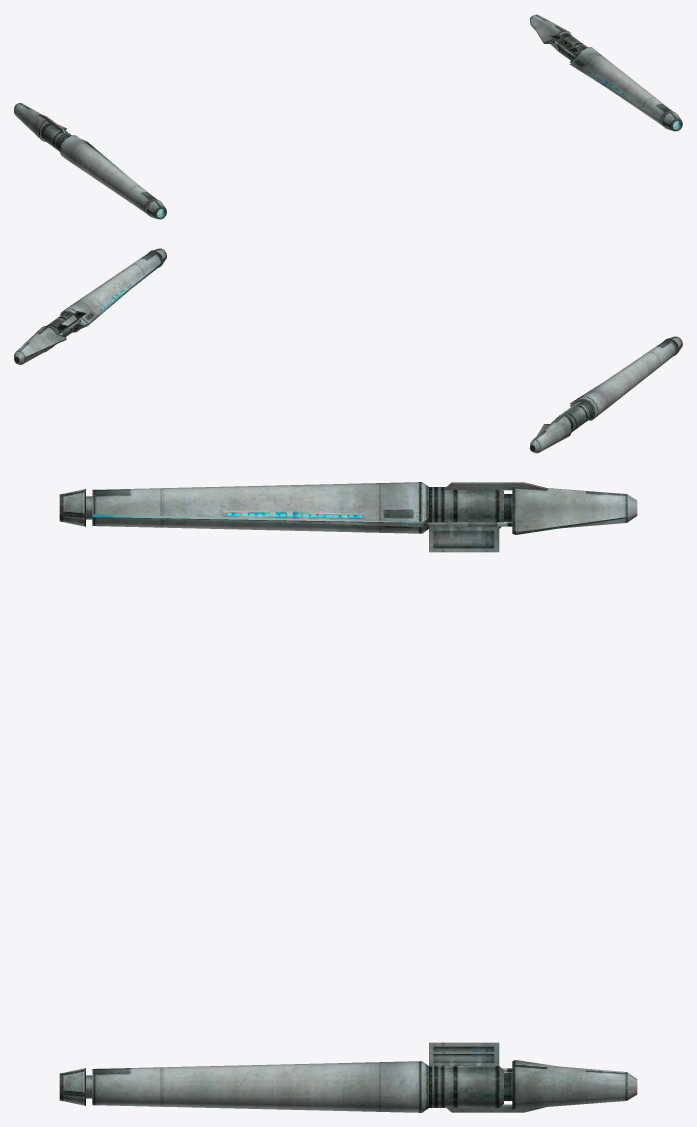
File: xwing_weapon1_pos_s02_l0.fbx
3 renders of one model, top to bottom at view 1: azimuth 30°, elevation 25°; view 2: azimuth 150°, elevation 25°; view 3: azimuth 270°, elevation 25°, orthographic. The views are drawn at different scales.
Parts seen in each view (by area): view 1: mesh_node; view 2: mesh_node; view 3: mesh_node.
Boxes of the visible parts, left/top/right/bottom form: mesh_node: left=14, top=14, right=682, bottom=219; mesh_node: left=14, top=248, right=682, bottom=453; mesh_node: left=59, top=482, right=637, bottom=1112.
Size of the model in its own units: 13.95 by 1.55 by 6.48.
Materials: 1 (1 with a texture image).
